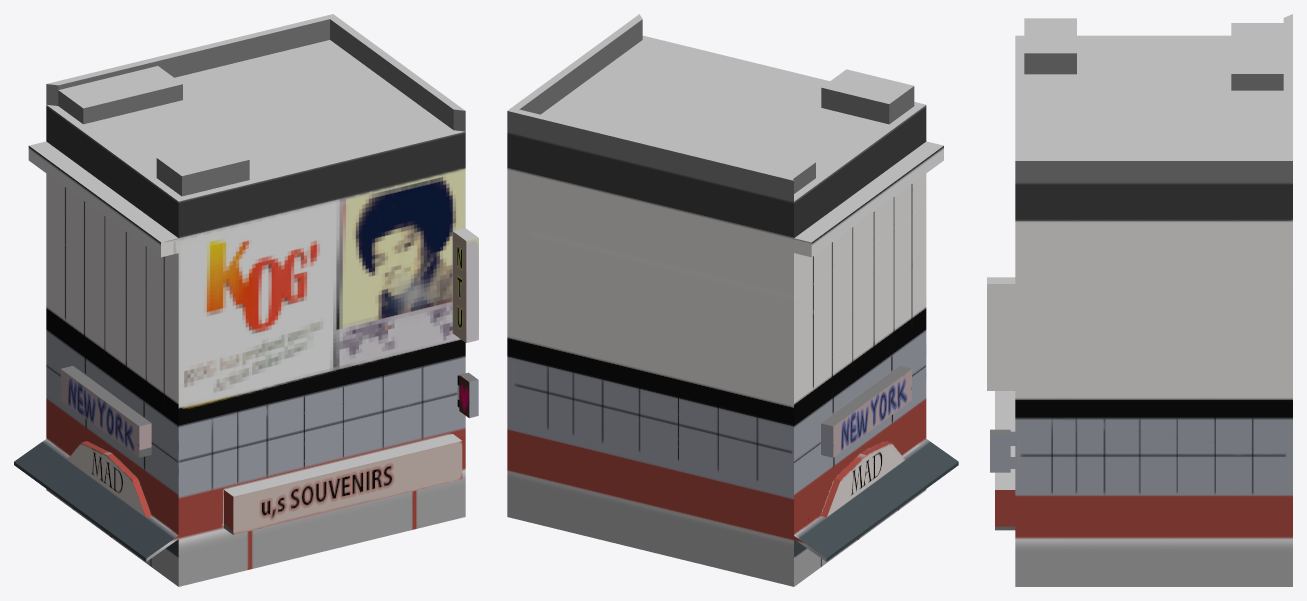
File: Building.FBX
3 renders of one model, left to right at view 1: azimuth 30°, elevation 25°; view 2: azimuth 150°, elevation 25°; view 3: azimuth 270°, elevation 25°, orthographic. The views are drawn at different scales.
Parts seen in each view (by area): view 1: building 2; view 2: building 2; view 3: building 2.
Part boxes in pixels (x1,y1,x2,y2): building 2: [14, 14, 478, 586]; building 2: [507, 14, 958, 586]; building 2: [987, 14, 1292, 586].
Size of the model in its own units: 16.12 by 12.71 by 19.54.
